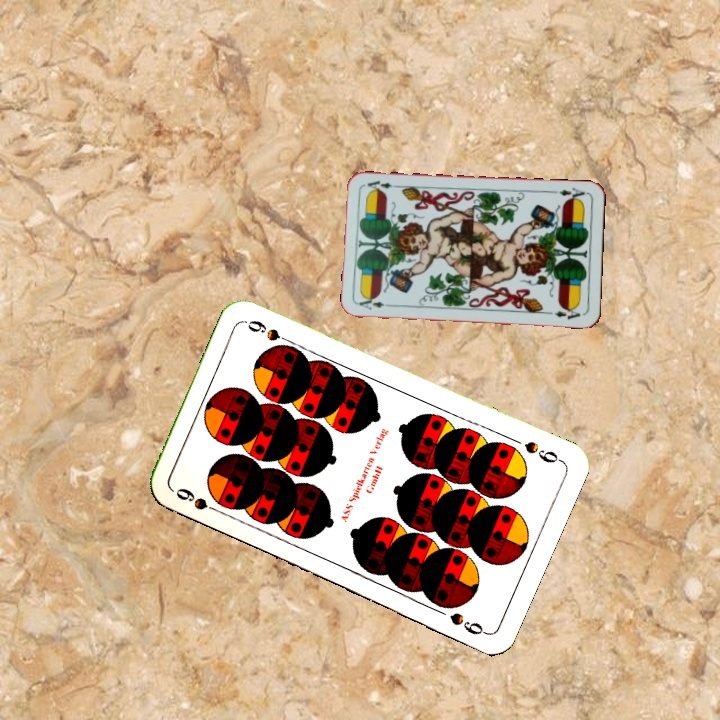EA: (549, 183, 589, 203), (355, 295, 396, 312)
S9: (172, 484, 225, 517), (520, 437, 565, 466)
